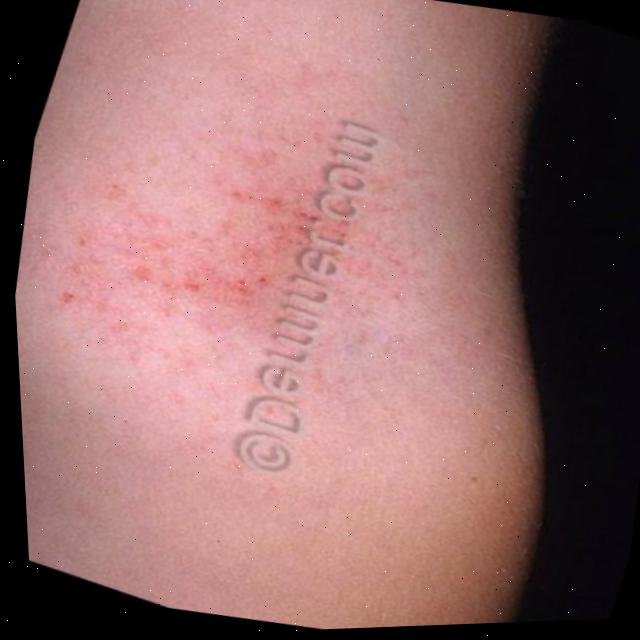Eczema: (127, 136, 367, 385)
